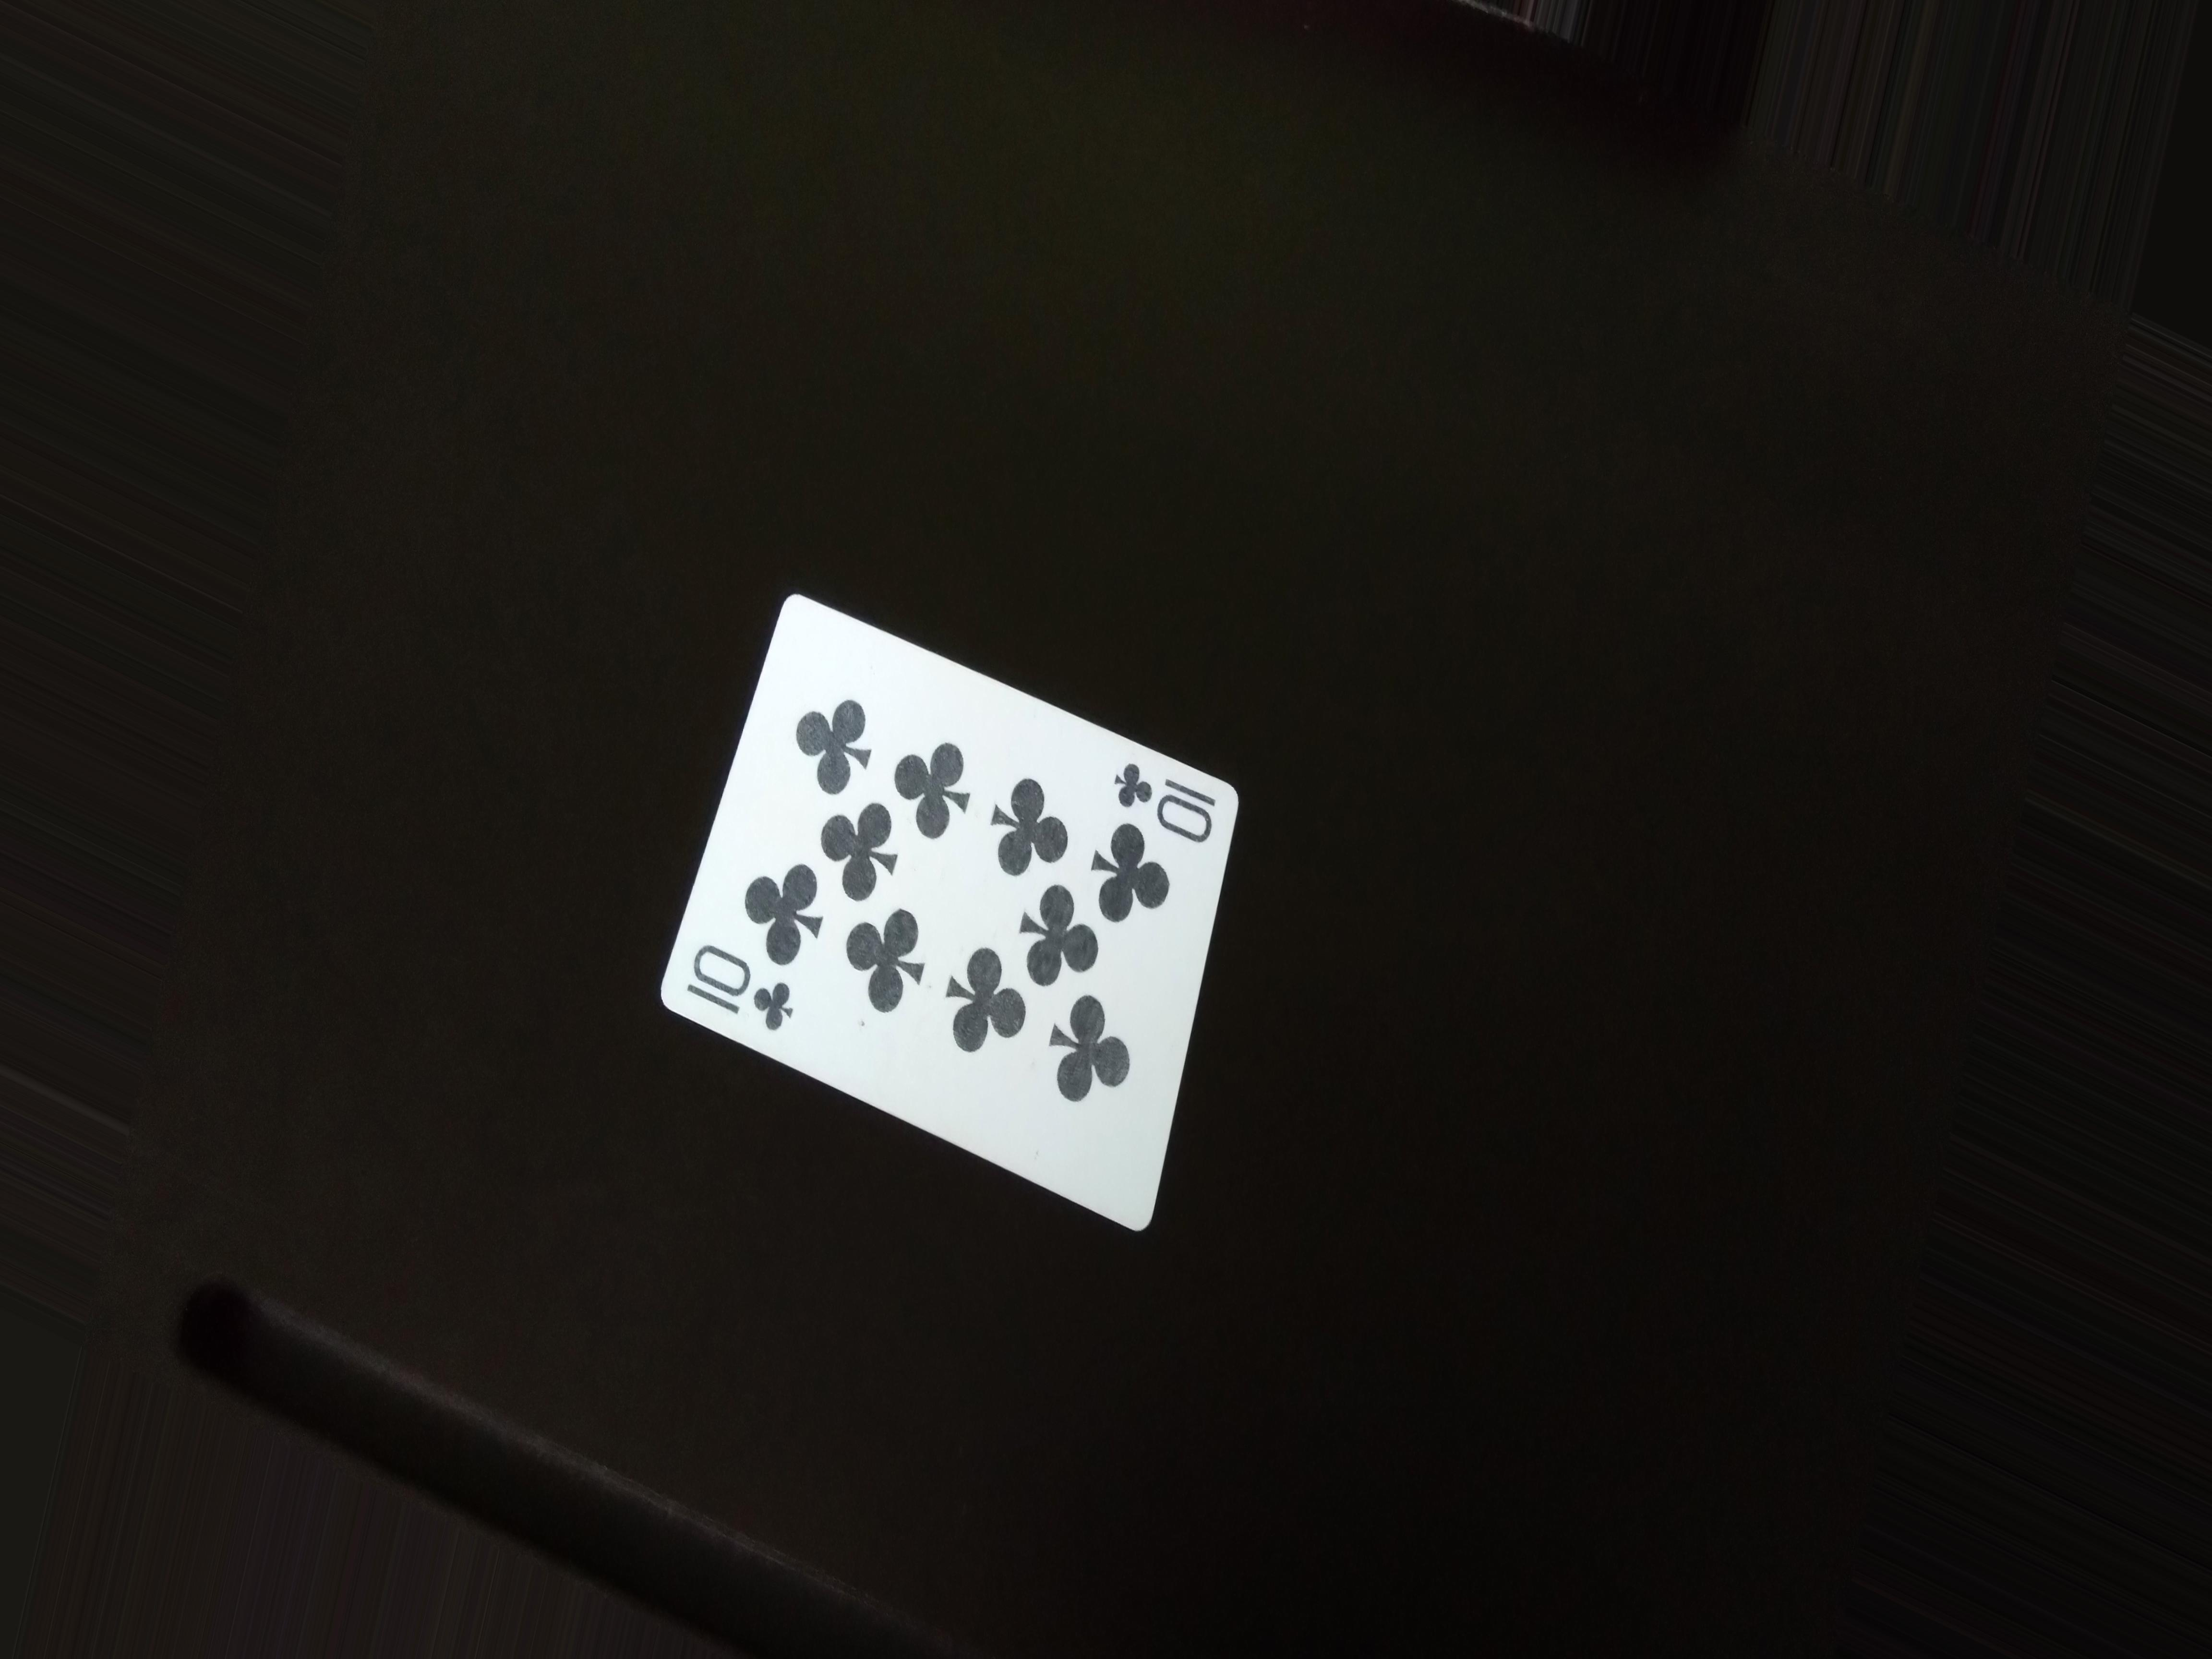10C: (681, 936, 820, 1063)
